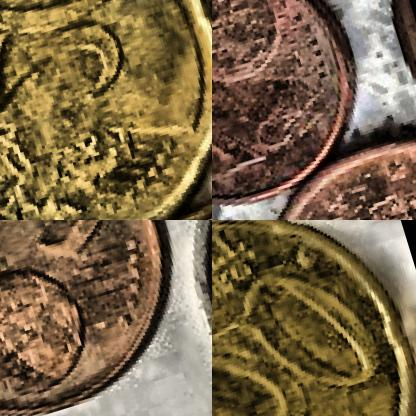coin: (0, 0, 211, 219), (0, 220, 211, 415), (212, 220, 415, 415), (212, 0, 362, 219)
